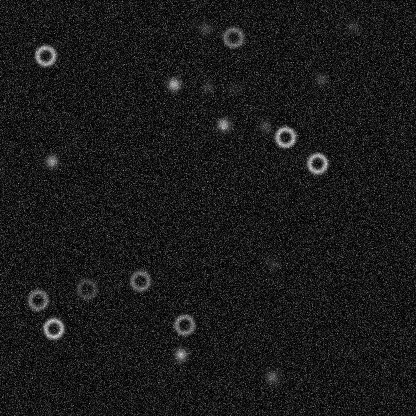Ring: (172, 312, 196, 336), (25, 287, 49, 311), (74, 276, 98, 300), (41, 316, 65, 340), (273, 125, 297, 149), (221, 25, 245, 49), (128, 268, 152, 292), (305, 151, 329, 175), (33, 43, 57, 67)
Spot: (257, 118, 273, 134), (226, 81, 242, 97), (197, 20, 213, 36), (215, 116, 231, 132), (165, 76, 181, 92), (313, 70, 329, 86), (199, 78, 215, 94), (264, 255, 280, 271), (43, 153, 59, 169), (263, 368, 279, 384), (344, 18, 360, 34), (172, 346, 188, 362)
